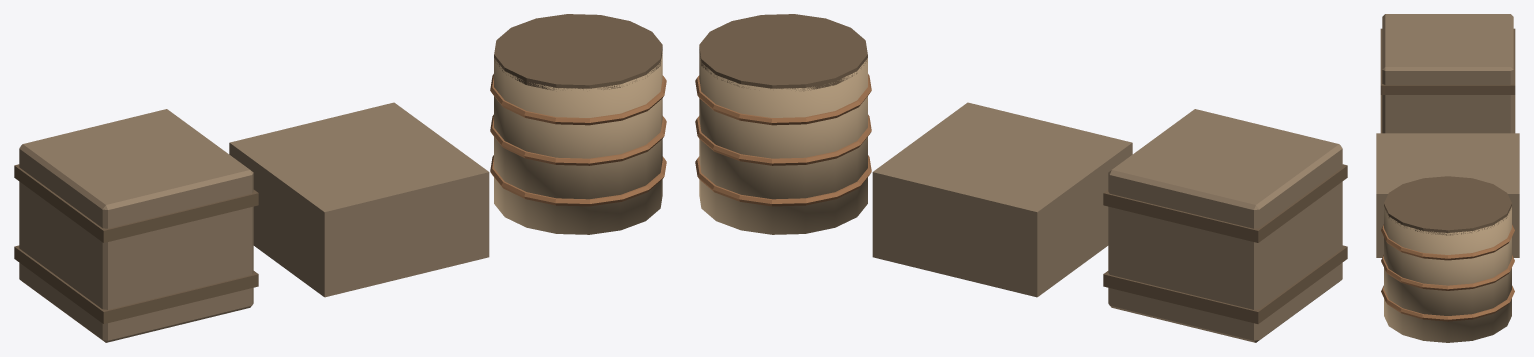
The model's file is LL_Crates_Barrels.fbx.
The picture shows the model from 3 angles, left to right: view 1: azimuth 30°, elevation 25°; view 2: azimuth 150°, elevation 25°; view 3: azimuth 270°, elevation 25°; orthographic projection. The views are drawn at different scales.
Visible parts, largest first — view 1: LL_Crate_Closed, LL_Crate_Open, LL_Barrel, LL_Barrel_Lid, LL_Crate_Slat_62, LL_Crate_Slat_22, LL_Barrel_Hoop_38, LL_Barrel_Hoop_18, LL_Barrel_Hoop_57; view 2: LL_Crate_Closed, LL_Crate_Open, LL_Barrel, LL_Barrel_Lid, LL_Crate_Slat_62, LL_Crate_Slat_22, LL_Barrel_Hoop_38, LL_Barrel_Hoop_18, LL_Barrel_Hoop_57; view 3: LL_Crate_Closed, LL_Barrel, LL_Crate_Open, LL_Barrel_Lid, LL_Crate_Slat_62, LL_Barrel_Hoop_57, LL_Barrel_Hoop_18, LL_Barrel_Hoop_38, LL_Crate_Slat_22.
Boxes of the visible parts, <box> form: LL_Crate_Closed: <box>19,109,253,342</box>; LL_Crate_Open: <box>229,102,489,297</box>; LL_Barrel: <box>494,51,662,234</box>; LL_Barrel_Lid: <box>494,14,662,90</box>; LL_Crate_Slat_62: <box>14,164,258,242</box>; LL_Crate_Slat_22: <box>14,245,258,323</box>; LL_Barrel_Hoop_38: <box>490,114,666,165</box>; LL_Barrel_Hoop_18: <box>490,155,666,206</box>; LL_Barrel_Hoop_57: <box>490,74,666,125</box>; LL_Crate_Closed: <box>1108,109,1342,342</box>; LL_Crate_Open: <box>872,102,1132,297</box>; LL_Barrel: <box>699,51,867,234</box>; LL_Barrel_Lid: <box>699,14,867,91</box>; LL_Crate_Slat_62: <box>1103,164,1347,242</box>; LL_Crate_Slat_22: <box>1103,245,1347,323</box>; LL_Barrel_Hoop_38: <box>695,114,871,165</box>; LL_Barrel_Hoop_18: <box>695,155,871,206</box>; LL_Barrel_Hoop_57: <box>695,74,871,125</box>; LL_Crate_Closed: <box>1382,14,1513,133</box>; LL_Barrel: <box>1384,206,1511,342</box>; LL_Crate_Open: <box>1376,133,1519,257</box>; LL_Barrel_Lid: <box>1384,176,1511,235</box>; LL_Crate_Slat_62: <box>1380,28,1515,94</box>; LL_Barrel_Hoop_57: <box>1381,224,1514,260</box>; LL_Barrel_Hoop_18: <box>1381,285,1514,321</box>; LL_Barrel_Hoop_38: <box>1381,255,1514,290</box>; LL_Crate_Slat_22: <box>1380,95,1515,133</box>.
Size of the model in its own units: 3.08 by 0.74 by 0.85.
